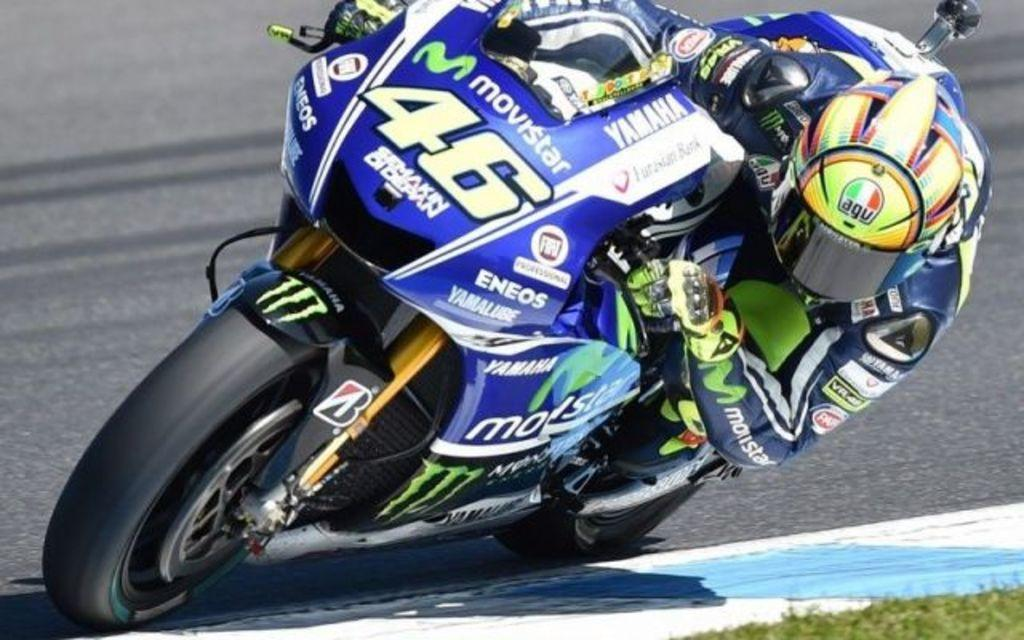helmet: (768, 68, 966, 303)
